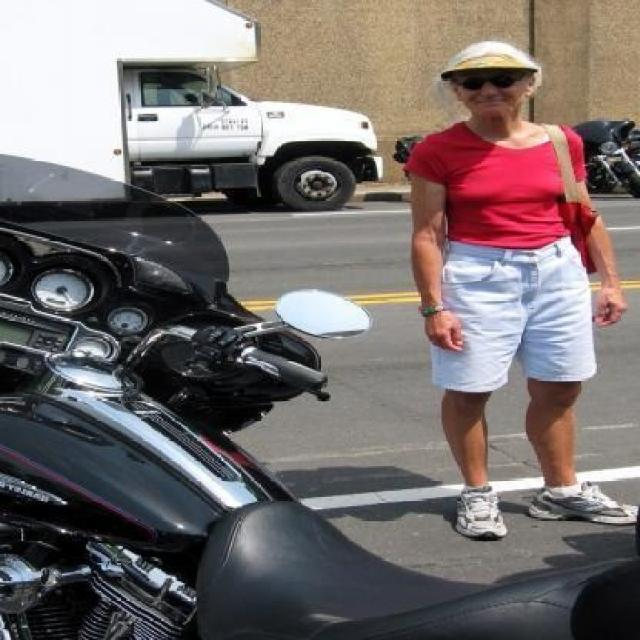Cycle: (0, 147, 640, 640)
Truck: (0, 1, 375, 207)
